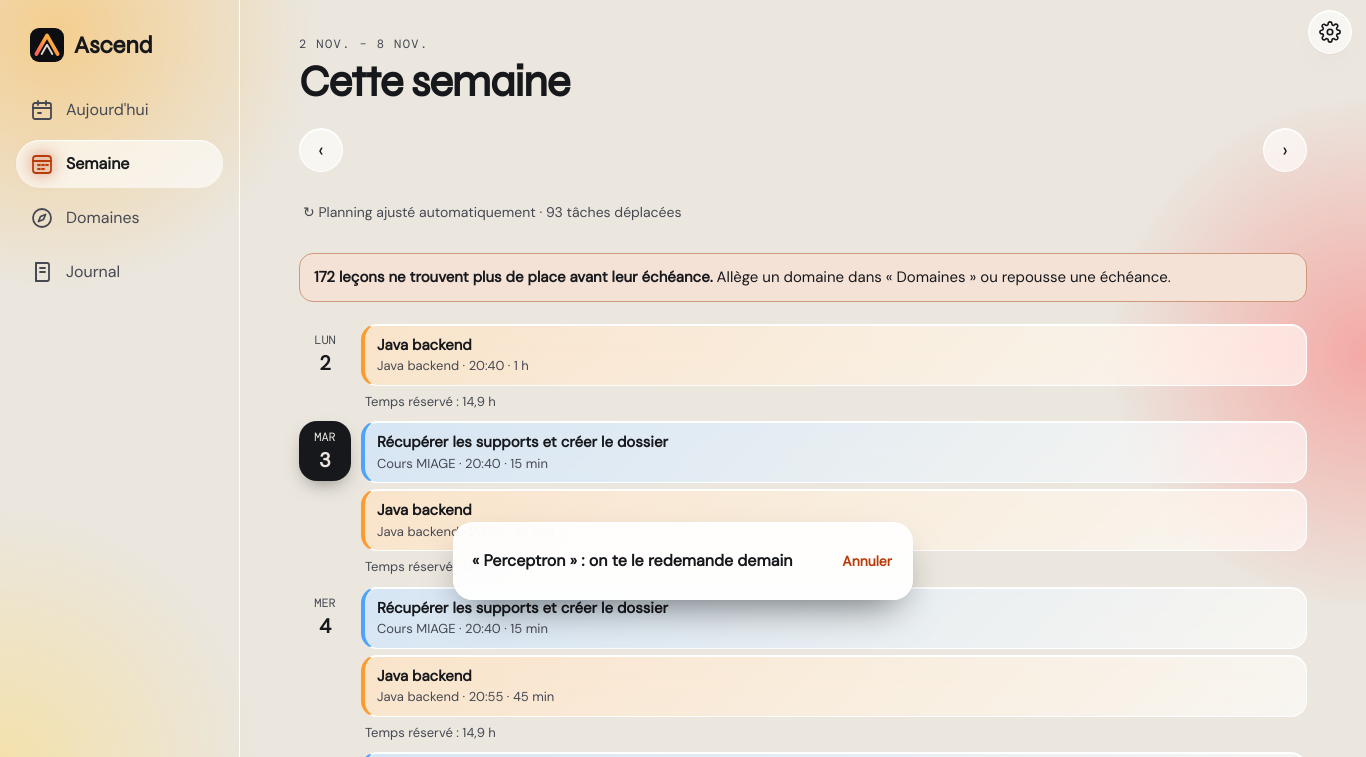
Test: semaine › navigue d'une semaine à l'autre et revient à la semaine courante
Click the link named "Semaine suivante": (1285, 150) [1263, 128, 1307, 172]
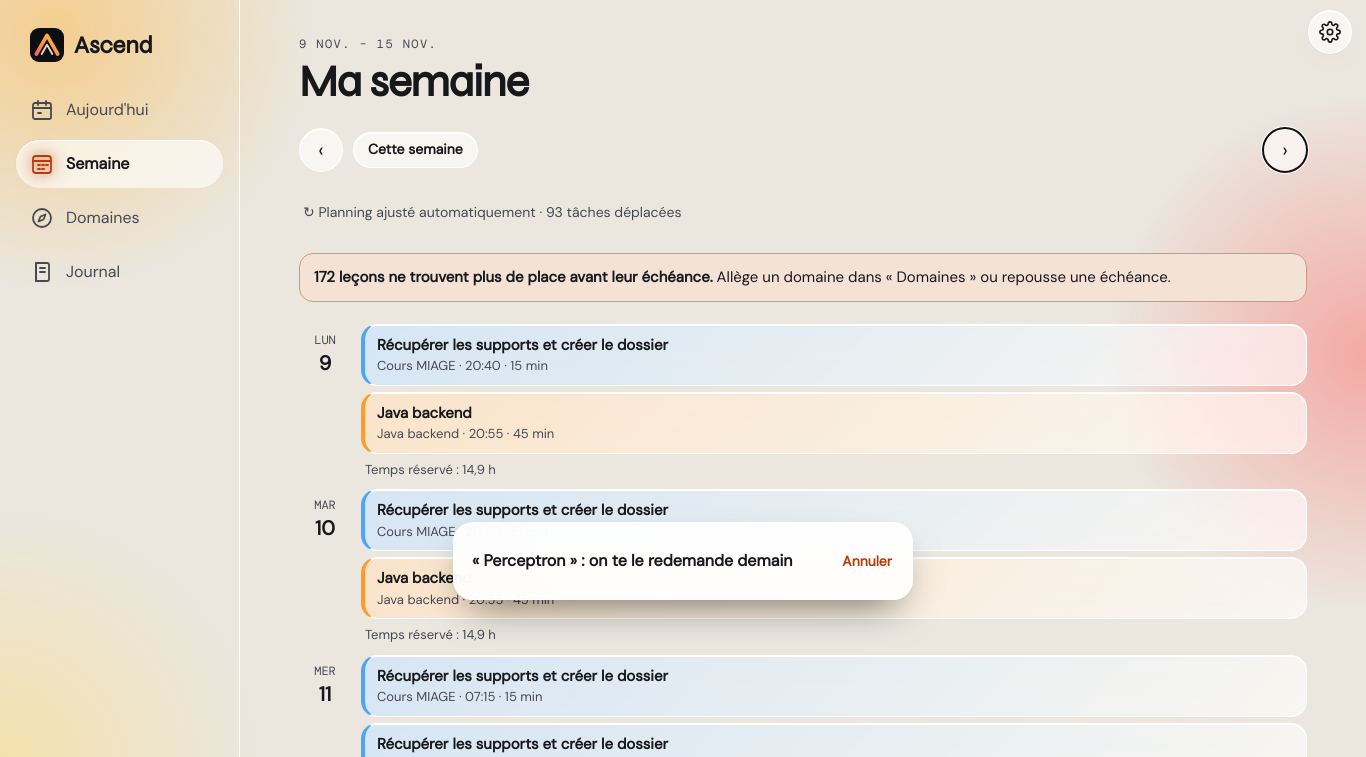
Now the heading "Ma semaine" is shown, box [299, 55, 528, 108]
Click the link "Cette semaine": (415, 150) [353, 132, 478, 168]
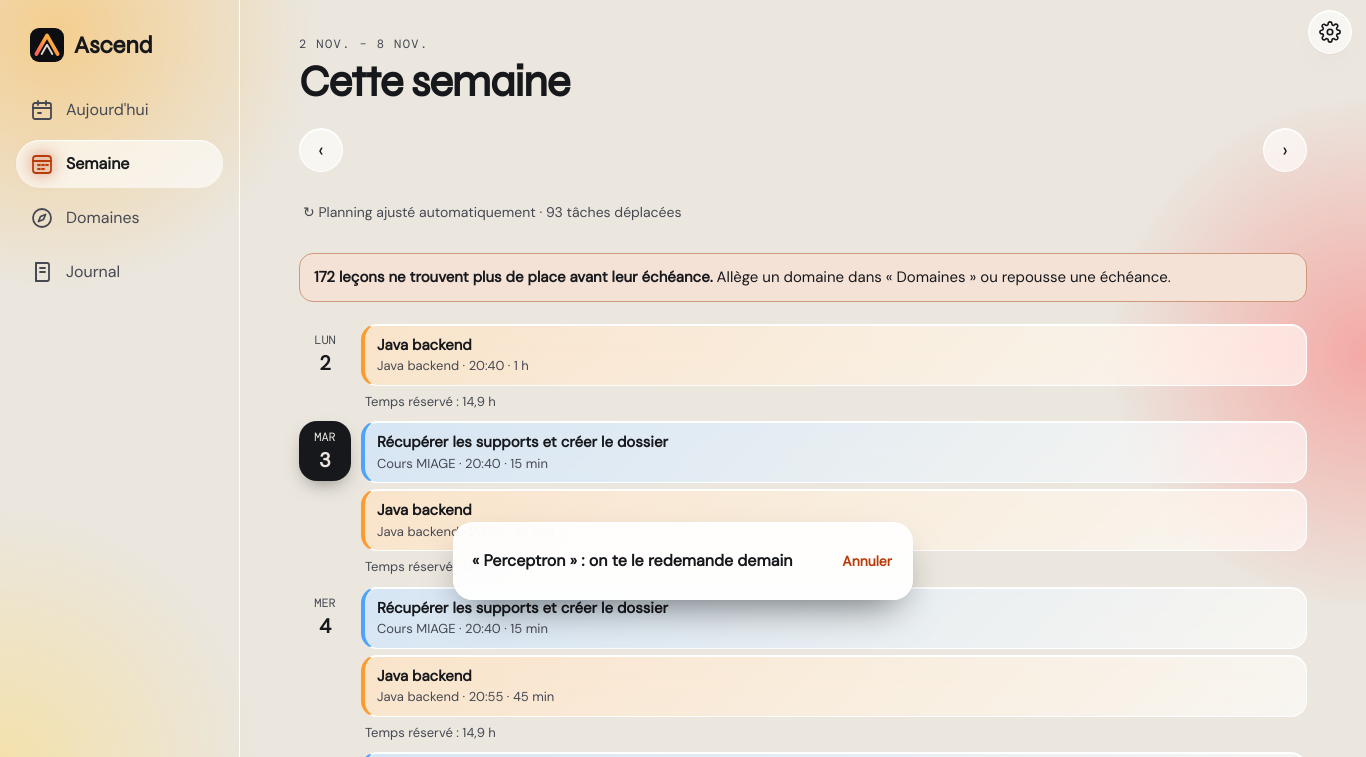
Now the heading "Cette semaine" is shown, box [299, 55, 569, 108]
